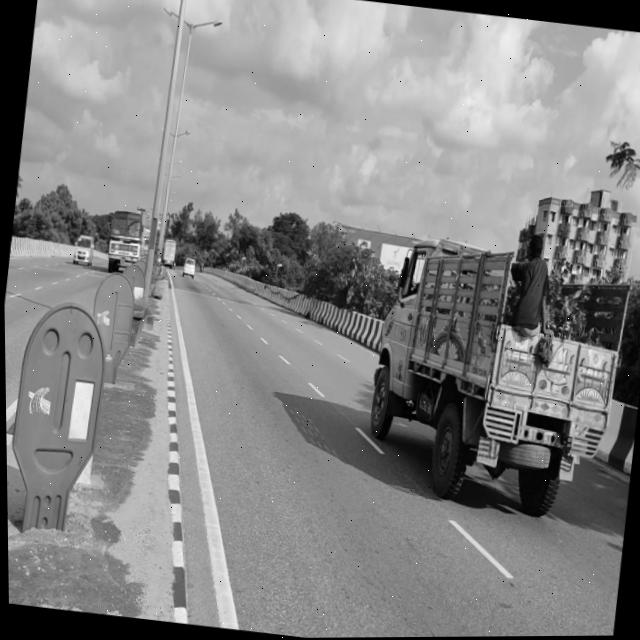bus: (97, 202, 147, 277)
car: (68, 234, 96, 273), (180, 257, 196, 278)
truck: (354, 229, 639, 517)
